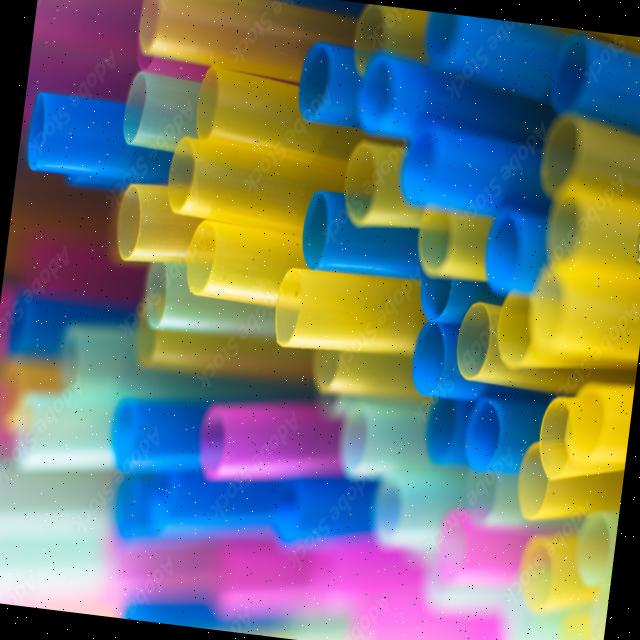plastic: (158, 378, 352, 500)
